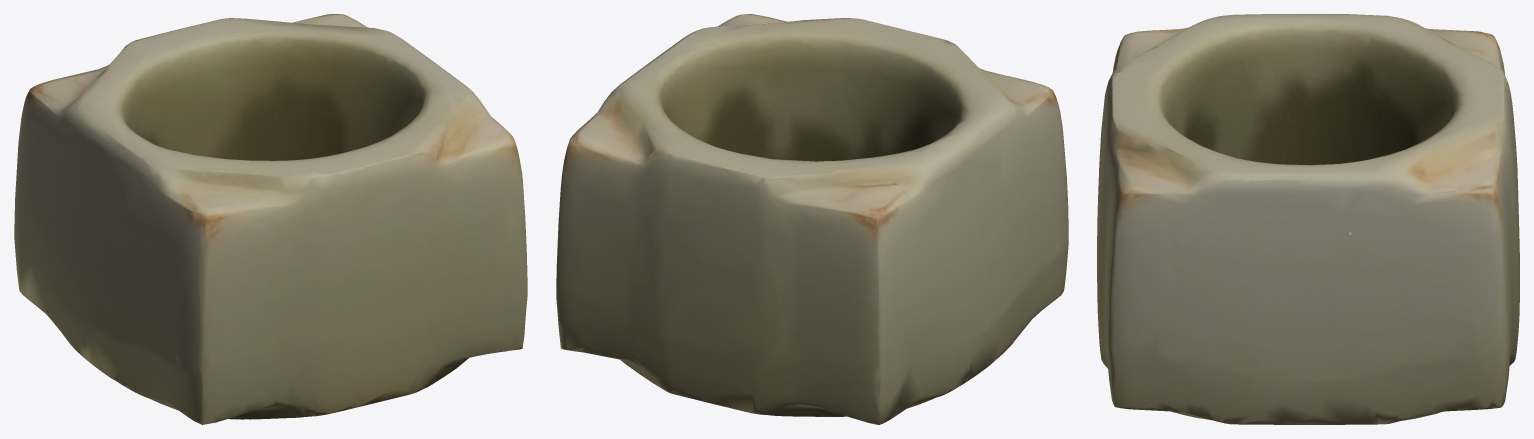
Rendered from zhanguohan.glb.
3 renders of one model, left to right at view 1: azimuth 30°, elevation 25°; view 2: azimuth 150°, elevation 25°; view 3: azimuth 270°, elevation 25°, orthographic. The views are drawn at different scales.
Parts seen in each view (by area): view 1: node_0; view 2: node_0; view 3: node_0.
Part boxes in pixels (x1=…): node_0: x1=14, y1=14, x2=527, y2=424; node_0: x1=556, y1=14, x2=1068, y2=424; node_0: x1=1097, y1=14, x2=1519, y2=424.
Bounding box in the file's own units: 0.8392 × 0.5527 × 0.8487.
1 material, 1 textured.
